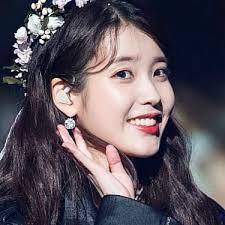earphone: (54, 86, 72, 108)
